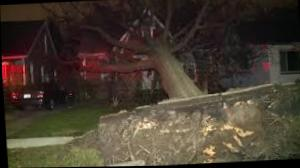Downstairs: (55, 0, 219, 109)
